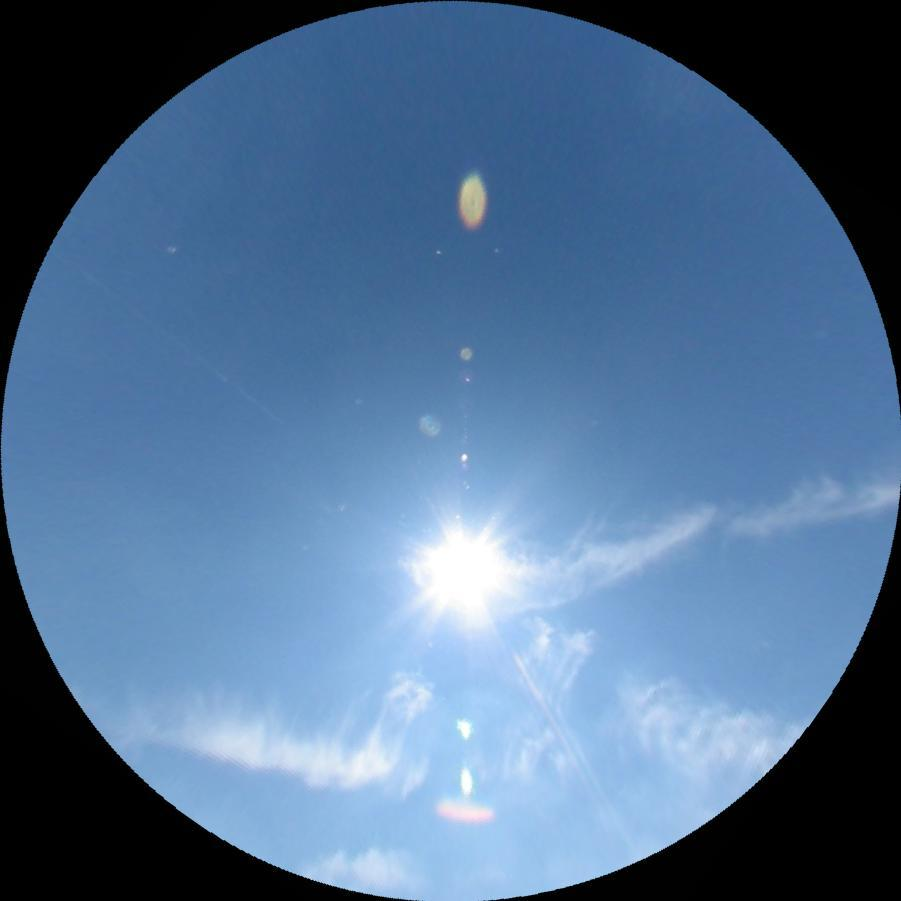parasite: (508, 648, 599, 804)
sun: (412, 517, 510, 616)
